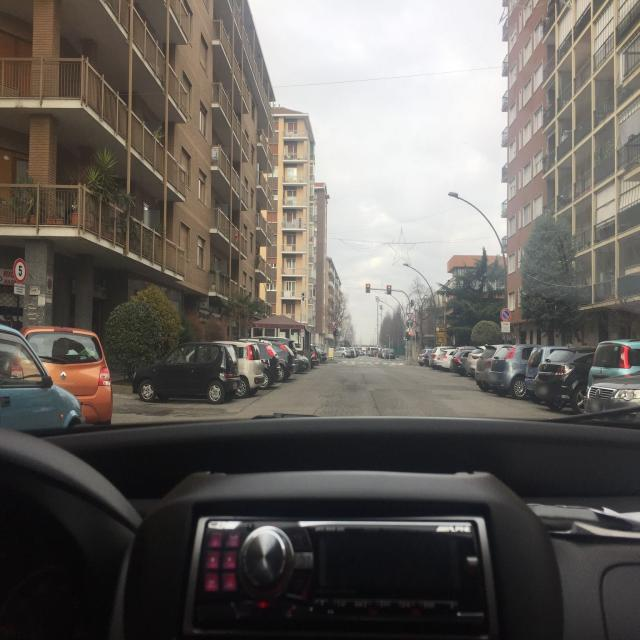forb_stopping: (500, 309, 511, 322)
